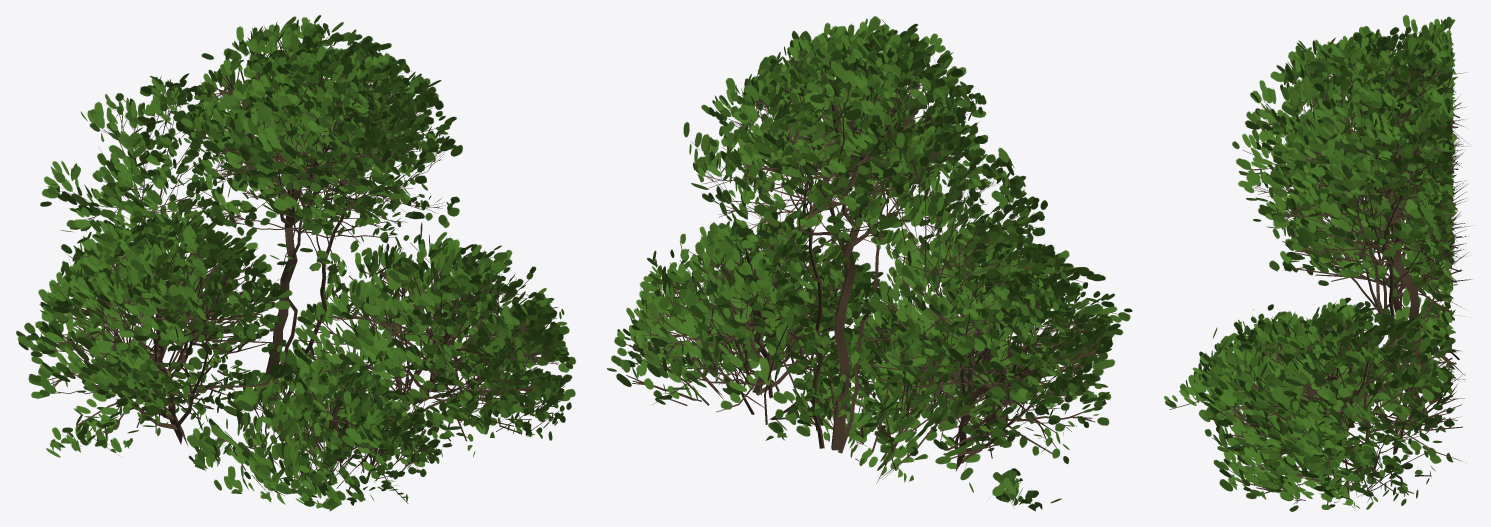
The picture shows the model from 3 angles, left to right: view 1: azimuth 30°, elevation 25°; view 2: azimuth 150°, elevation 25°; view 3: azimuth 270°, elevation 25°; orthographic projection. The views are drawn at different scales.
Visible parts, largest first — view 1: oak 01.001_trunk_Mat.001_0.319; view 2: oak 01.001_trunk_Mat.001_0.319; view 3: oak 01.001_trunk_Mat.001_0.319.
Part boxes in pixels (<box>): oak 01.001_trunk_Mat.001_0.319: <box>16,15,575,511</box>; oak 01.001_trunk_Mat.001_0.319: <box>607,16,1132,511</box>; oak 01.001_trunk_Mat.001_0.319: <box>1164,14,1471,511</box>.
Bounding box in the file's own units: 5.96 × 4.82 × 3.45.
Materials: 2 (1 with a texture image).
